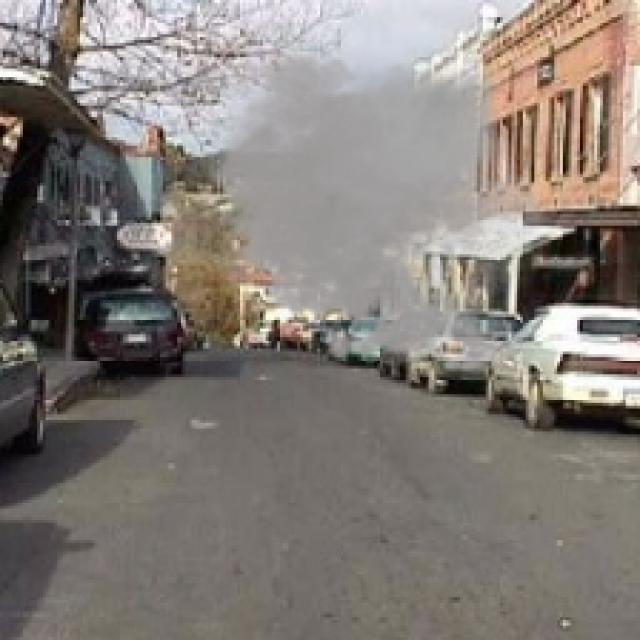smoke: (191, 40, 563, 383)
